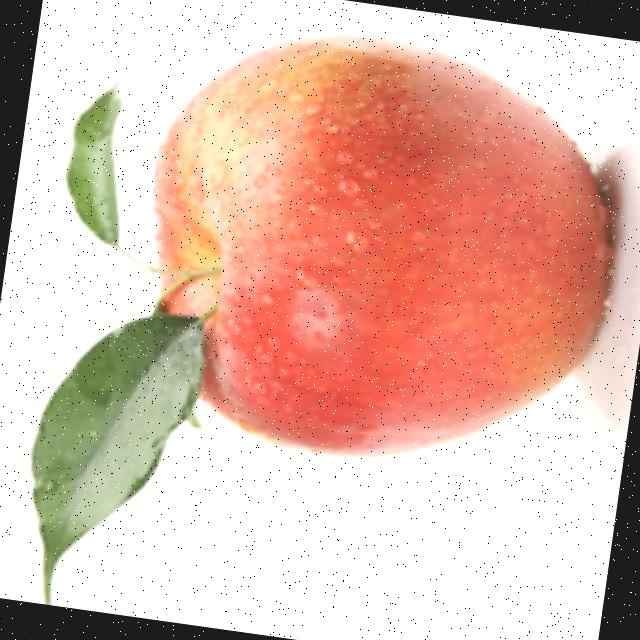Ripe: (107, 5, 640, 496)
